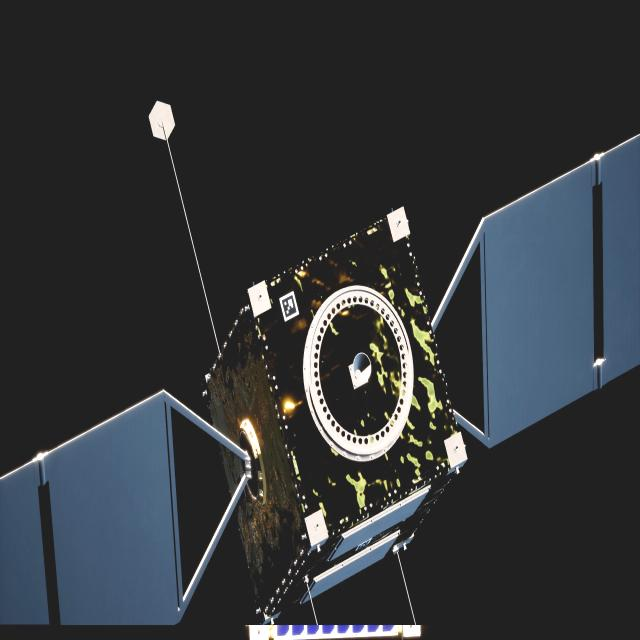satellite: (0, 135, 640, 628)
